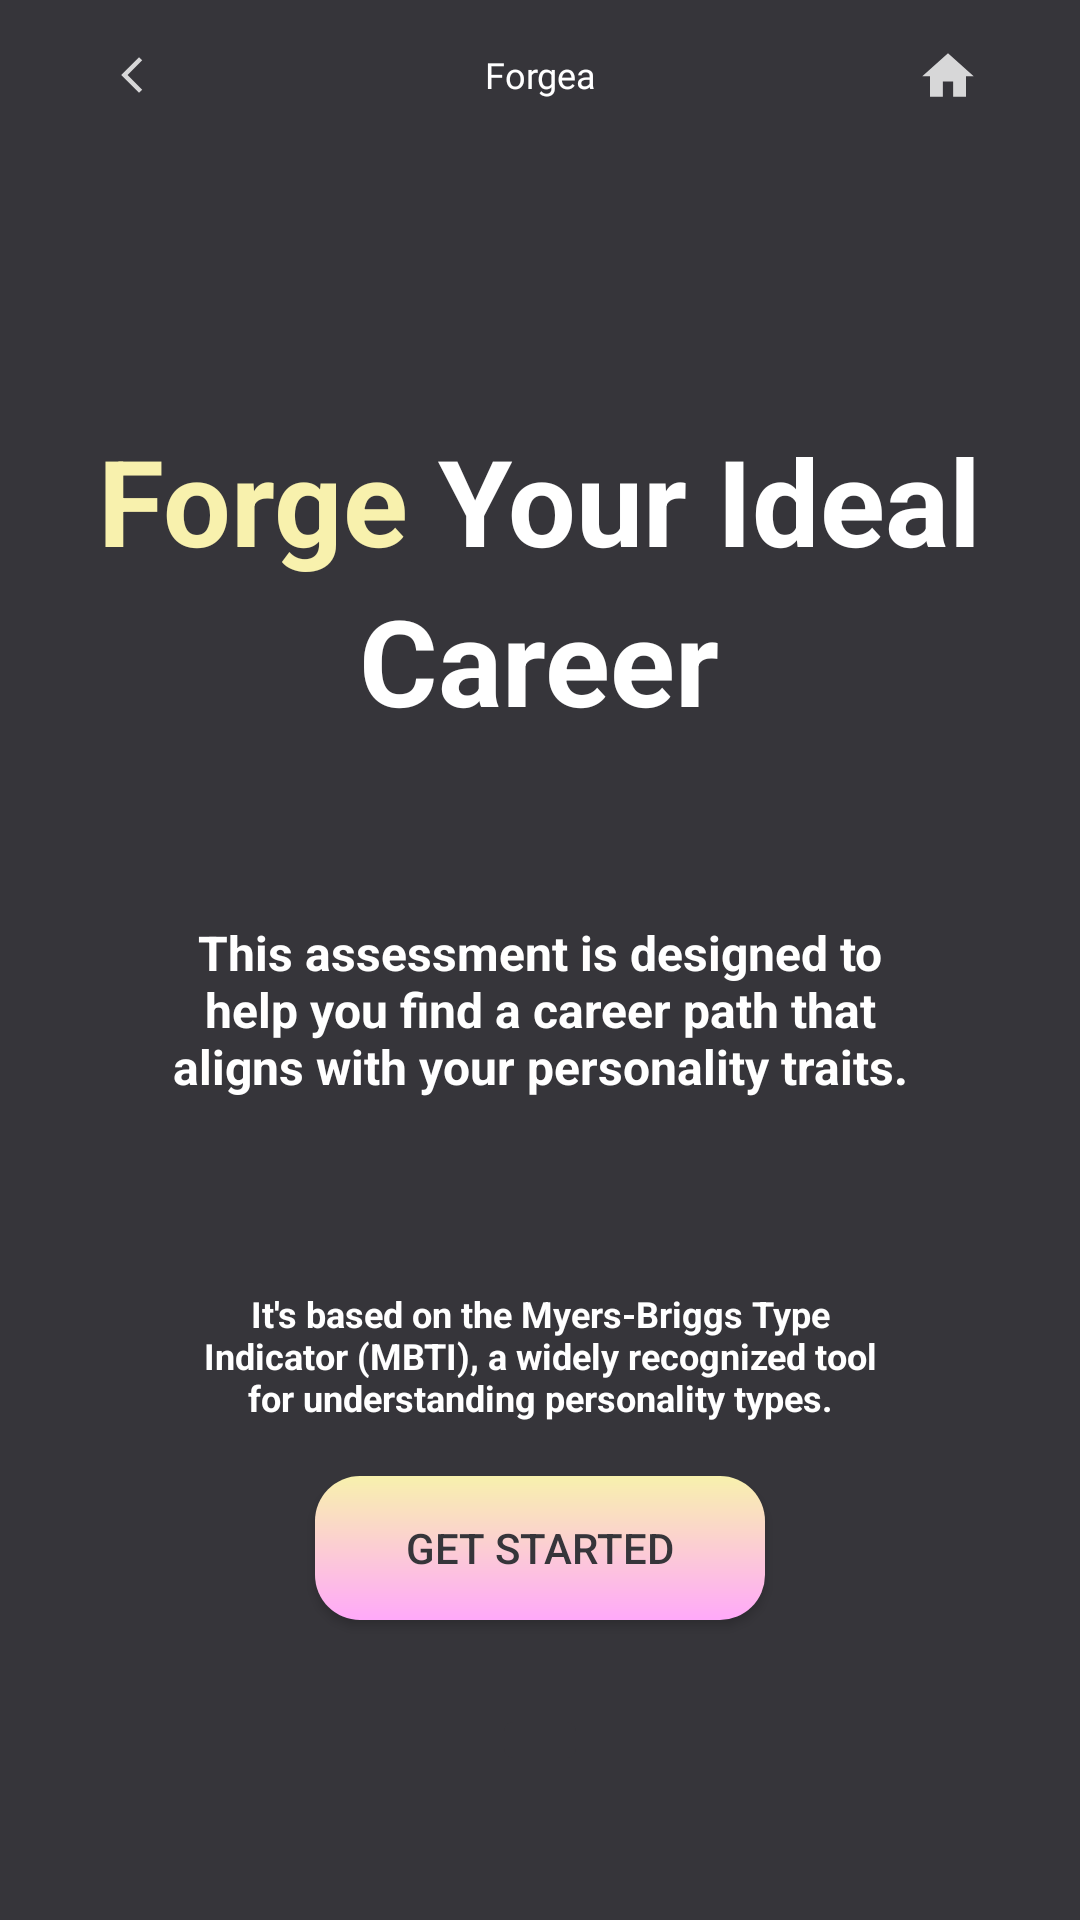

Icons on this 1080×1920 Android screen, each with the point to tap as [x,y]:
back arrow: [131,75]
home: [948,75]
